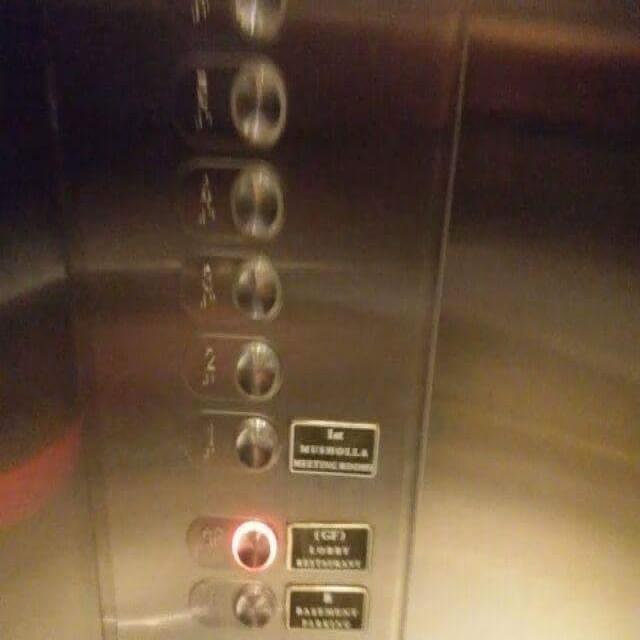1: (183, 407, 282, 476)
2: (182, 328, 283, 401)
3: (176, 252, 286, 331)
4: (174, 158, 284, 250)
blur: (170, 49, 291, 148), (184, 576, 279, 635)
open: (185, 513, 281, 572)
